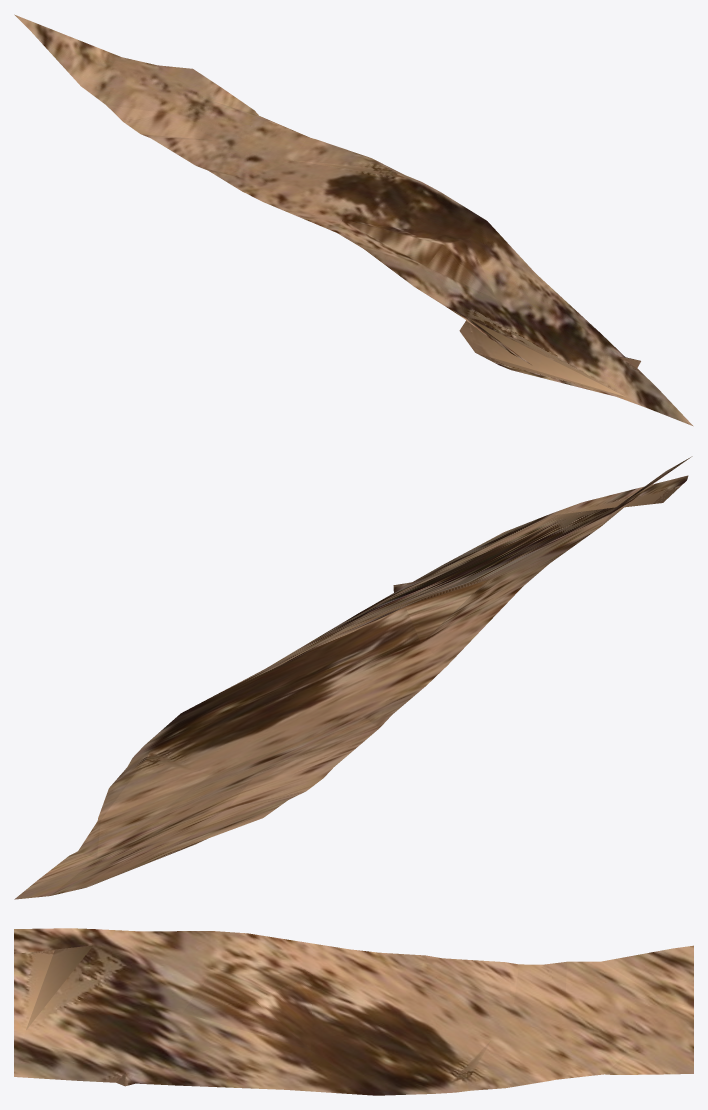
3 views of the same model, one above another, from view 1: azimuth 30°, elevation 25°; view 2: azimuth 150°, elevation 25°; view 3: azimuth 270°, elevation 25° (orthographic). The views are drawn at different scales.
Bounding box in the file's own units: 0.5982 × 0.289 × 2.09.
Materials: 1 (1 with a texture image).
